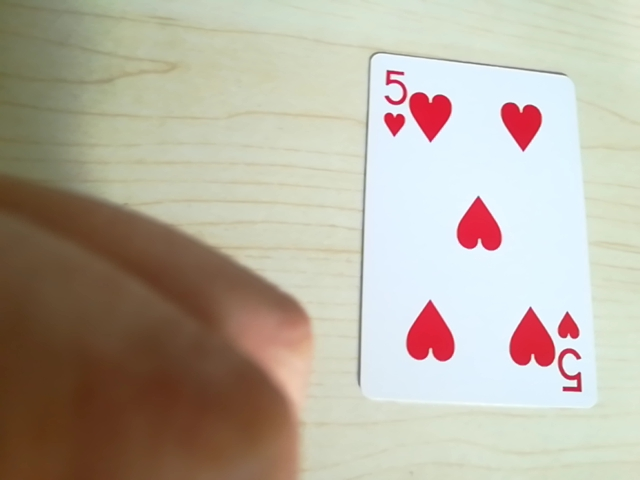hx 5: (375, 61, 421, 146), (553, 328, 585, 400)
